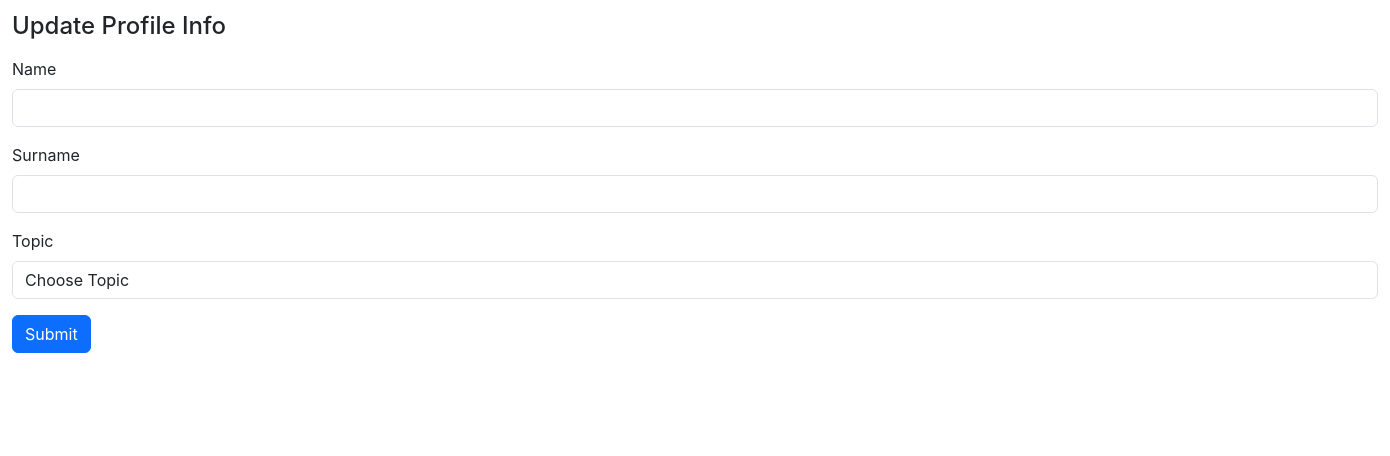
Test case: renders user info form
Expected: the text "Name" is shown, [12,57,56,81]
Expected: the text "Surname" is shown, [12,143,80,167]
Select "Other" in the dropdown labelled "Topic" at (695, 280), box [12,261,1378,299]
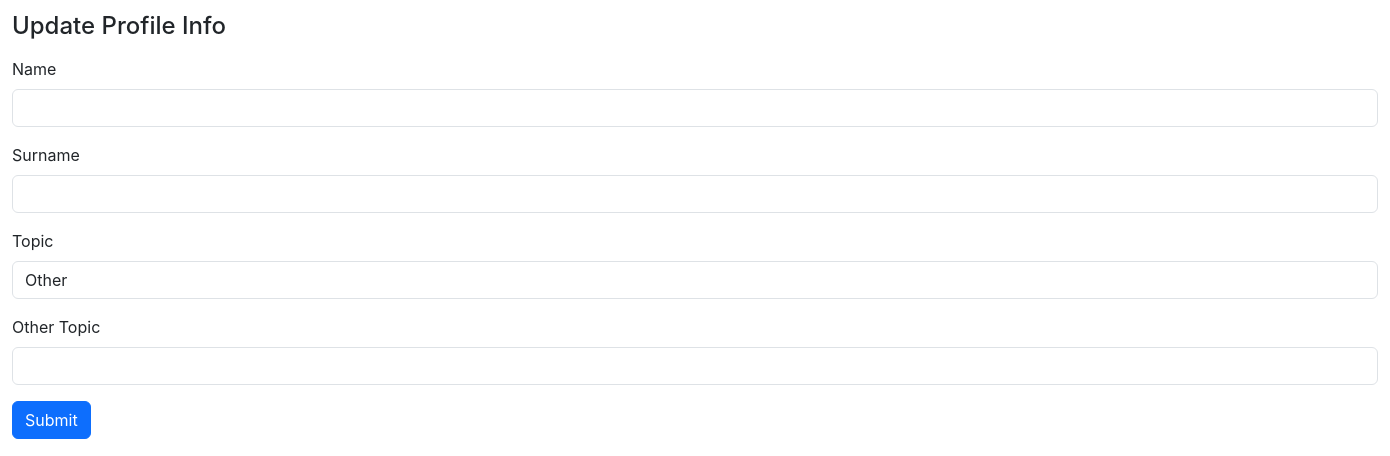
Now the text "Other Topic" is shown, box [12,315,100,339]
